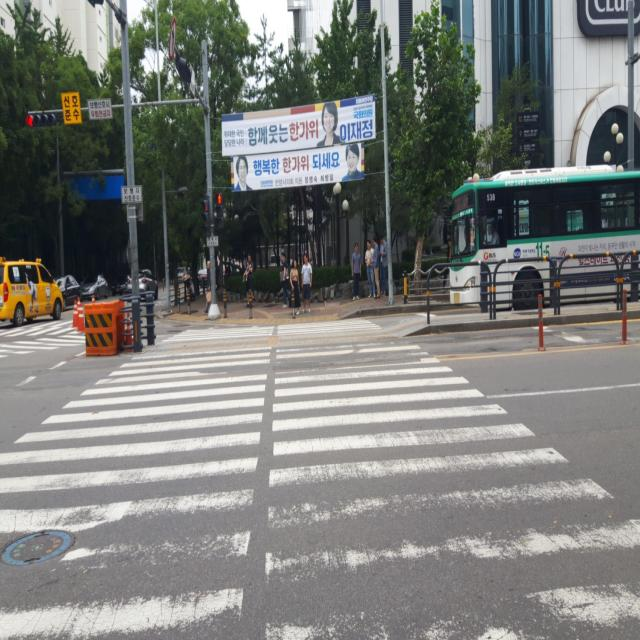빨간불: (214, 192, 225, 230)
횡단보도: (0, 318, 640, 638)
